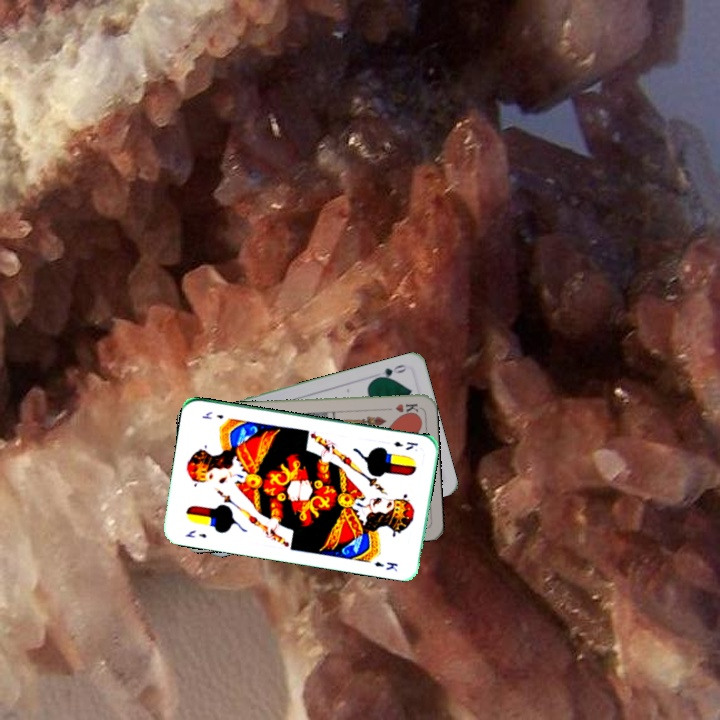EK: (390, 437, 420, 453), (181, 526, 209, 540)
GO: (371, 360, 408, 382)
HK: (380, 400, 420, 416)
